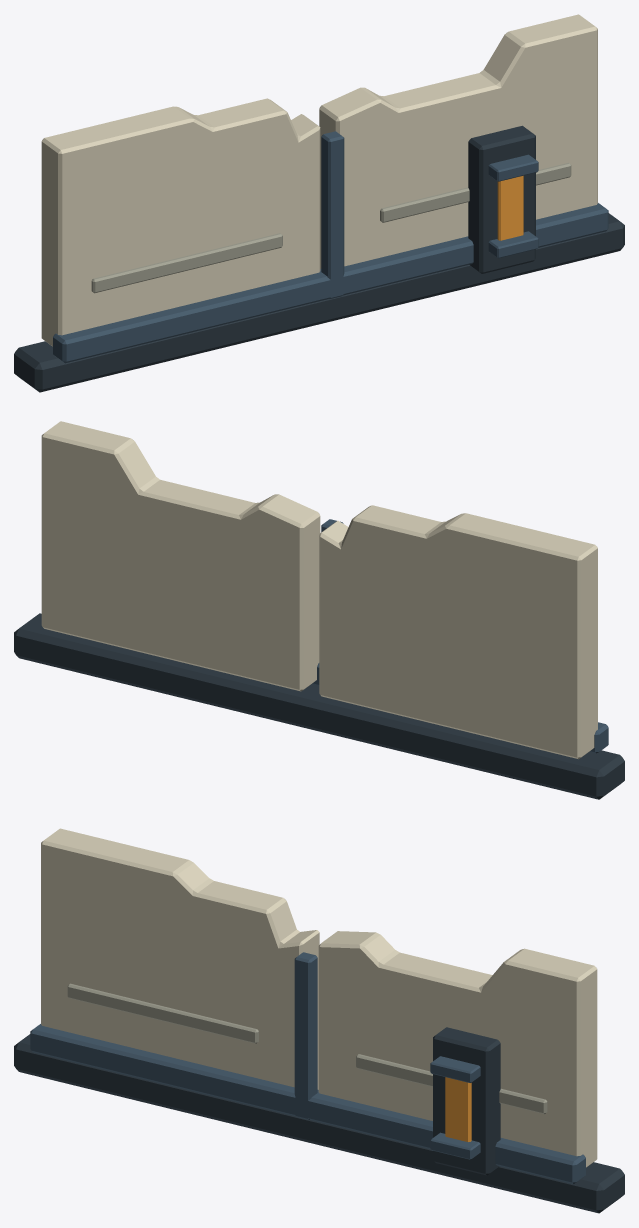
File: survey-rear-wall.glb
3 views of the same model, one above another, from view 1: azimuth 30°, elevation 25°; view 2: azimuth 150°, elevation 25°; view 3: azimuth 330°, elevation 25° (orthographic).
Visible parts, largest first — view 1: survey-rear-wall; view 2: survey-rear-wall; view 3: survey-rear-wall.
Boxes of the visible parts, x1,y1,x2,y2 form: survey-rear-wall: (14, 14, 624, 392); survey-rear-wall: (14, 421, 624, 799); survey-rear-wall: (14, 828, 624, 1213).
Size of the model in its own units: 5.4 by 2.06 by 0.75.
Materials: 1 (1 with a texture image).
